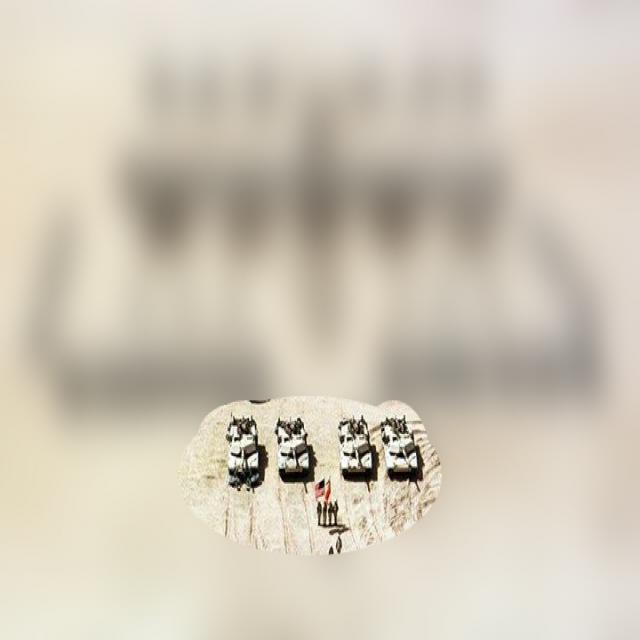tank: (378, 414, 421, 479), (226, 412, 261, 491), (272, 417, 310, 482), (337, 416, 372, 477)
